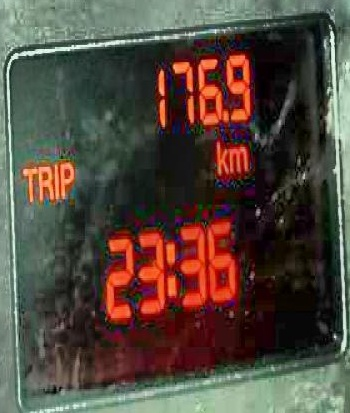-: (221, 106, 227, 120)
1: (152, 62, 167, 129)
2: (102, 233, 132, 320)
3: (177, 220, 206, 306), (136, 229, 165, 313)
6: (207, 215, 237, 302), (196, 53, 222, 124)
7: (170, 55, 195, 124)
9: (226, 49, 251, 120)
X: (163, 238, 176, 298), (18, 162, 36, 202), (227, 140, 248, 173), (36, 160, 52, 200), (213, 135, 227, 173), (58, 160, 72, 195), (51, 162, 58, 197)
